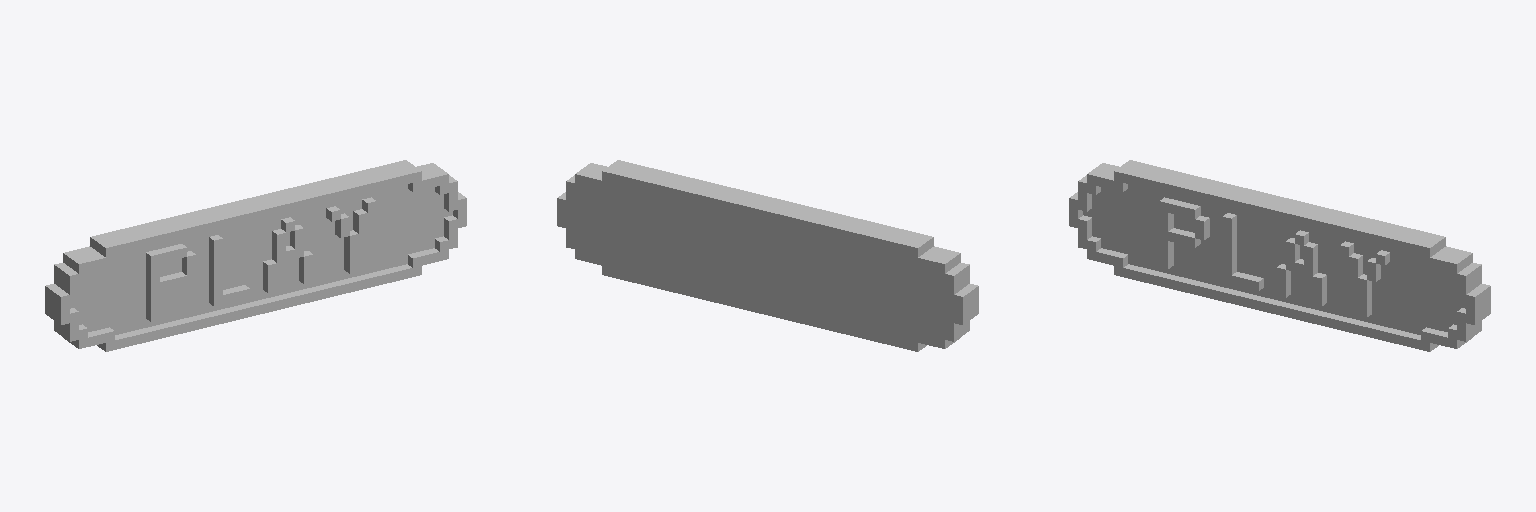
The model's file is Buttons good-0.obj.
3 renders of one model, left to right at view 1: azimuth 30°, elevation 25°; view 2: azimuth 150°, elevation 25°; view 3: azimuth 330°, elevation 25°, orthographic.
Visible parts, largest first — view 1: Buttons good-0; view 2: Buttons good-0; view 3: Buttons good-0.
Part boxes in pixels (x1,y1,x2,y2): Buttons good-0: (45,160,466,351); Buttons good-0: (557,160,978,351); Buttons good-0: (1069,160,1490,351).
Bounding box in the file's own units: 45 × 11 × 3.